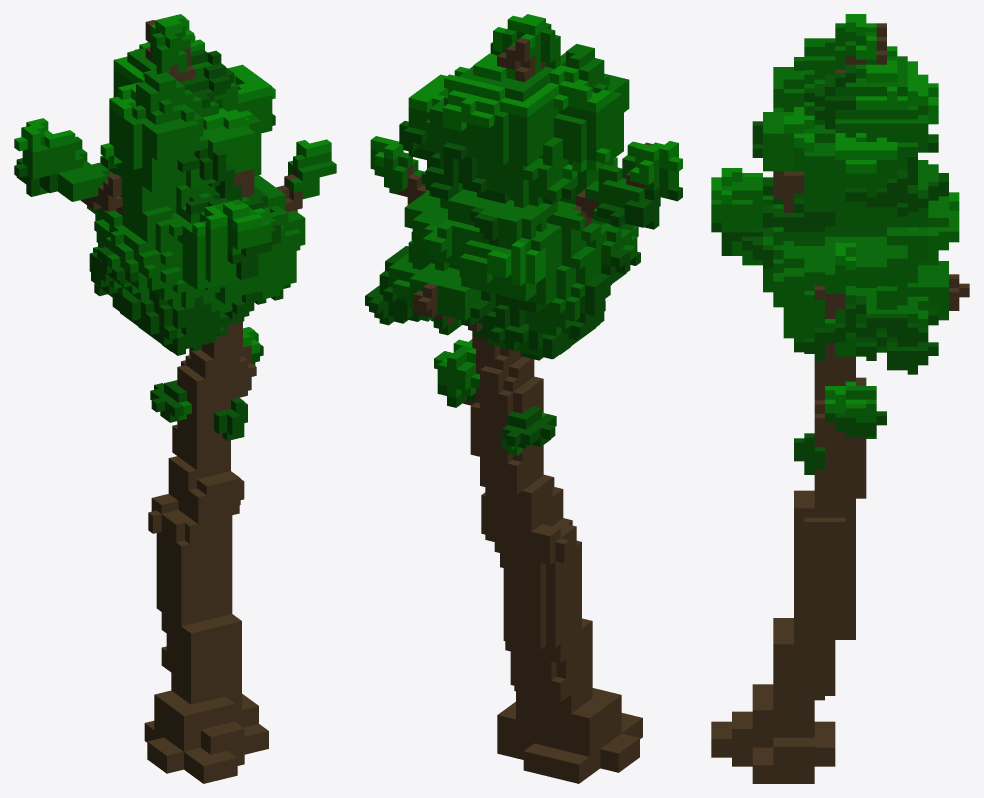
File: Tree2.obj
3 renders of one model, left to right at view 1: azimuth 30°, elevation 25°; view 2: azimuth 150°, elevation 25°; view 3: azimuth 270°, elevation 25°, orthographic. The views are drawn at different scales.
Size of the model in its own units: 3.5 by 7.9 by 2.5.
1 material, 1 textured.
